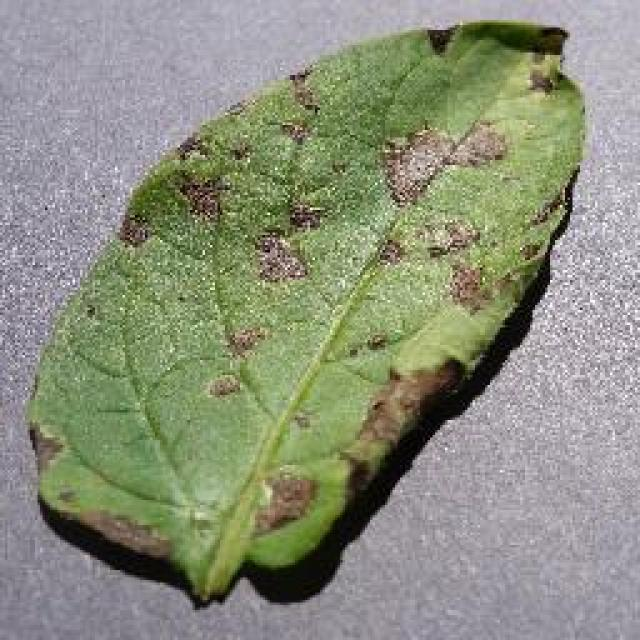early_blight: (20, 15, 590, 607)
